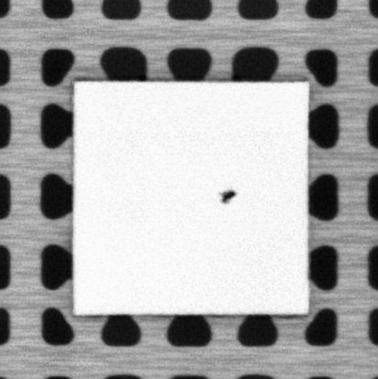DIE_INK: (217, 188, 239, 206)
